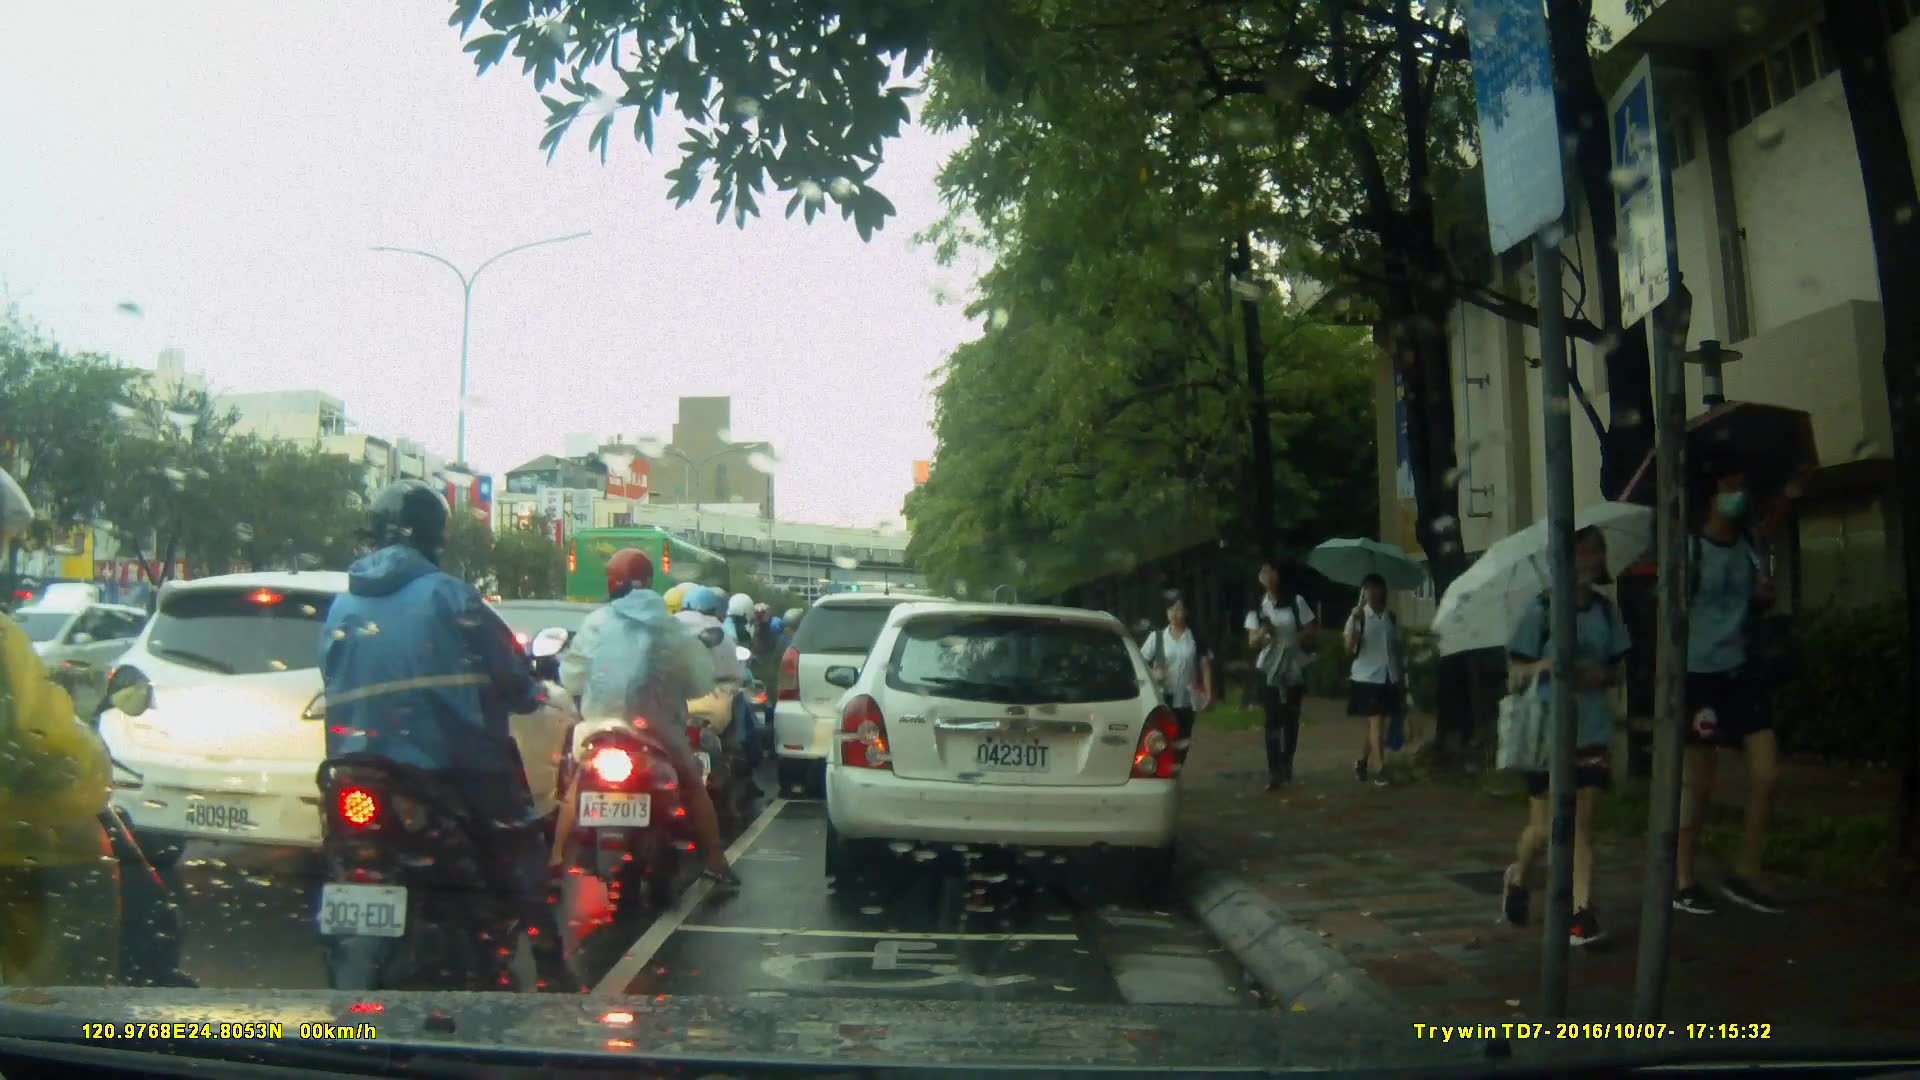pedestrian: (1497, 500, 1652, 956), (1654, 455, 1799, 936), (1241, 558, 1327, 788), (1333, 561, 1420, 785), (1130, 584, 1216, 788)
rider: (315, 478, 575, 1005), (1, 455, 181, 1080), (549, 547, 746, 919), (635, 576, 767, 835), (681, 594, 769, 784)
vehicle: (93, 569, 617, 883), (822, 604, 1187, 883), (774, 595, 995, 802), (577, 528, 753, 654), (21, 608, 158, 703)
